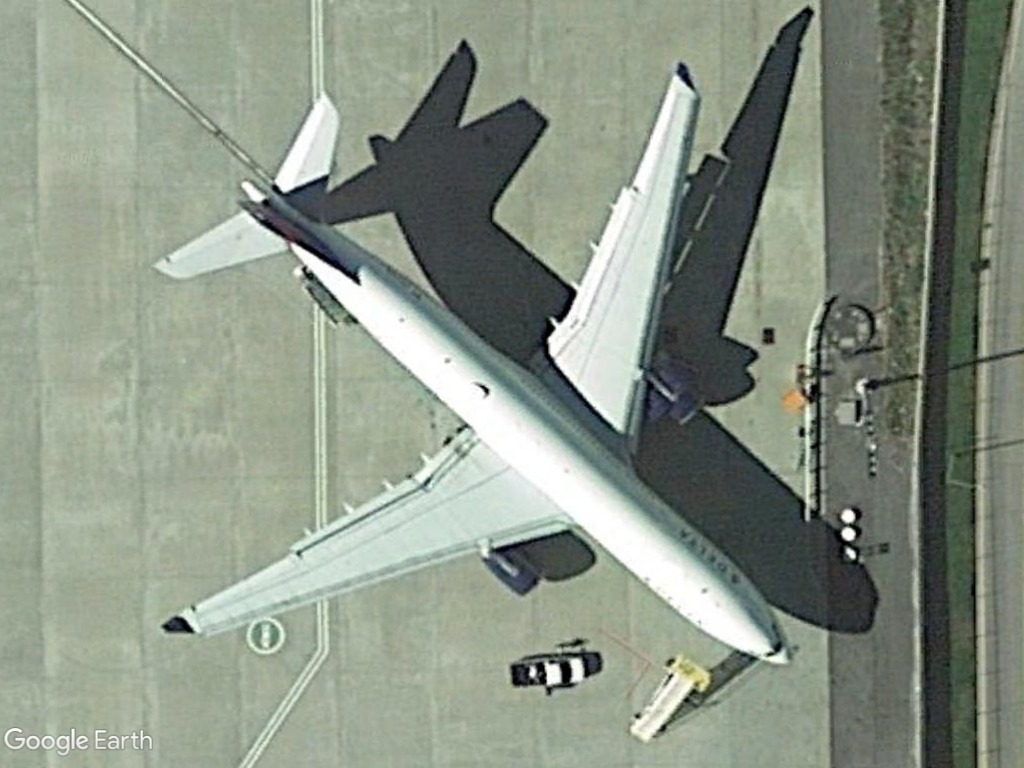airliner: (150, 45, 792, 669)
stairtruck: (629, 648, 715, 744)
